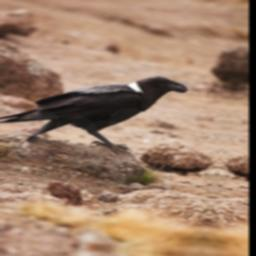Crow: (0, 60, 193, 164)
